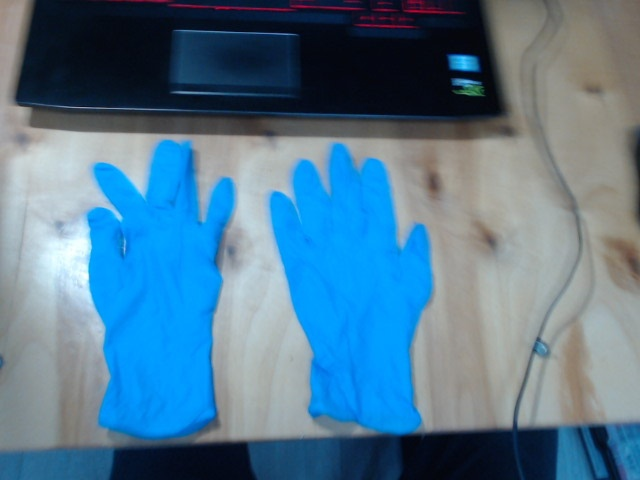medical_glove: (269, 144, 431, 434), (86, 140, 236, 440)
